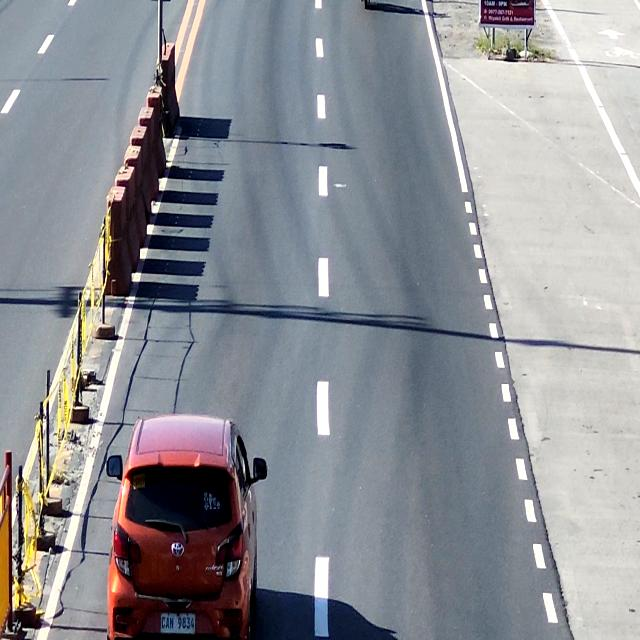Car: (109, 415, 256, 640)
License-Plate: (157, 606, 195, 640)
